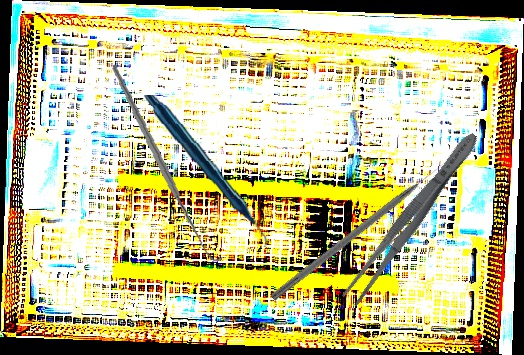Dressing Forceps: (339, 127, 485, 309)
Handpiece: (143, 89, 268, 253)
Hook Surgical: (97, 62, 236, 264), (269, 160, 448, 303)
